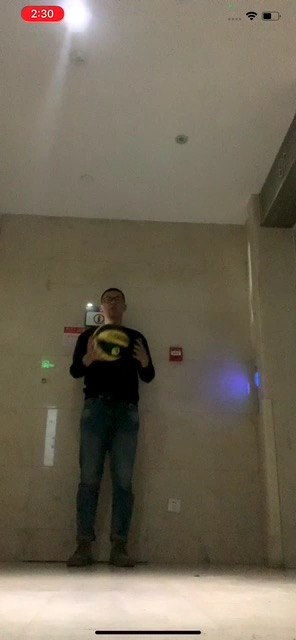ball: (89, 323, 132, 361)
